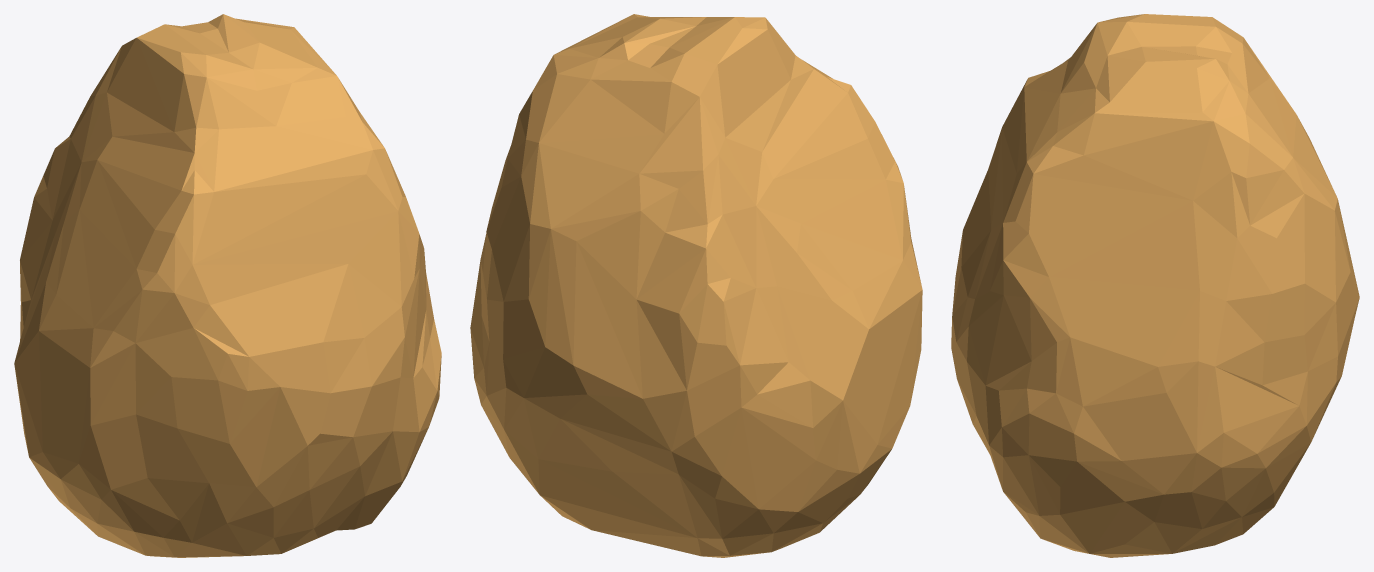
File: Rock1.fbx
The picture shows the model from 3 angles, left to right: view 1: azimuth 30°, elevation 25°; view 2: azimuth 150°, elevation 25°; view 3: azimuth 270°, elevation 25°; orthographic projection. The views are drawn at different scales.
Parts seen in each view (by area): view 1: Sphere.020; view 2: Sphere.020; view 3: Sphere.020.
Part boxes in pixels (box(x1,y1,x2,y2)): Sphere.020: box(14, 14, 441, 557); Sphere.020: box(470, 14, 922, 557); Sphere.020: box(951, 14, 1359, 557).
Size of the model in its own units: 138 by 173 by 136.
